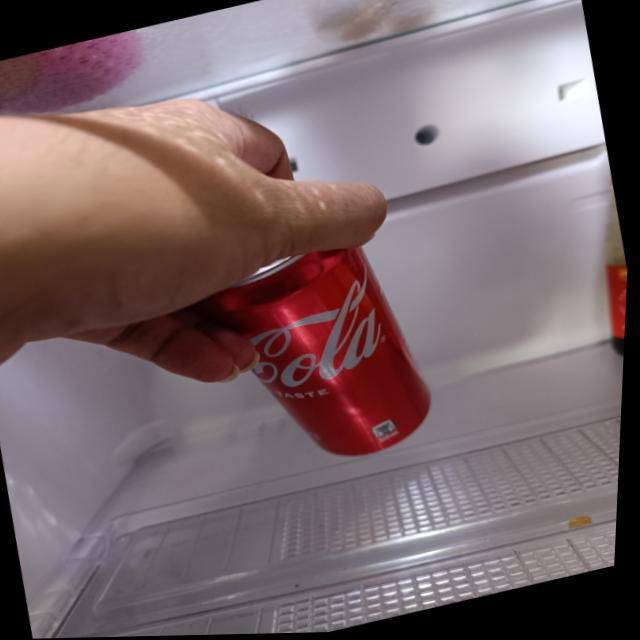coke: (201, 218, 452, 482)
